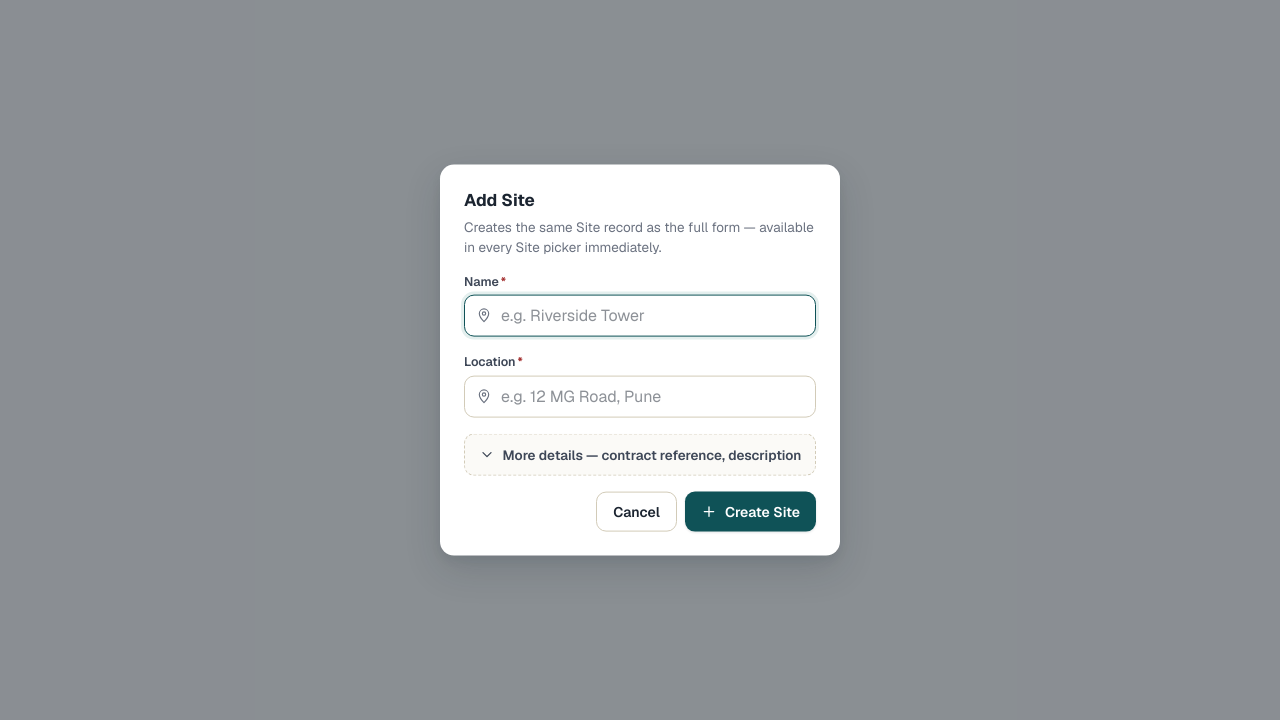
Test: SiteQuickCreateModal › keeps typed values and shows the inline error when the action returns a validation error
Type "Duplicate Site" into the field labelled "Name" at (640, 316), box [464,295,816,337]
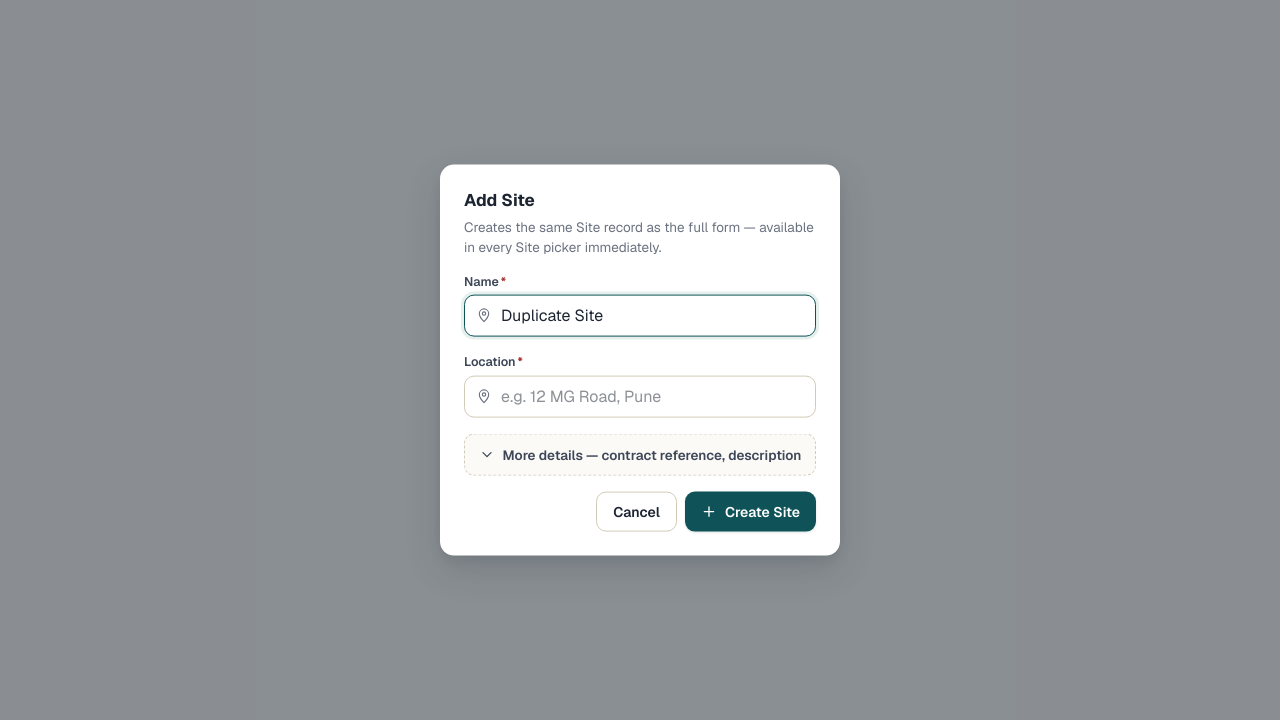
Type "Nashik" into the field labelled "Location" at (640, 396), box [464,375,816,417]
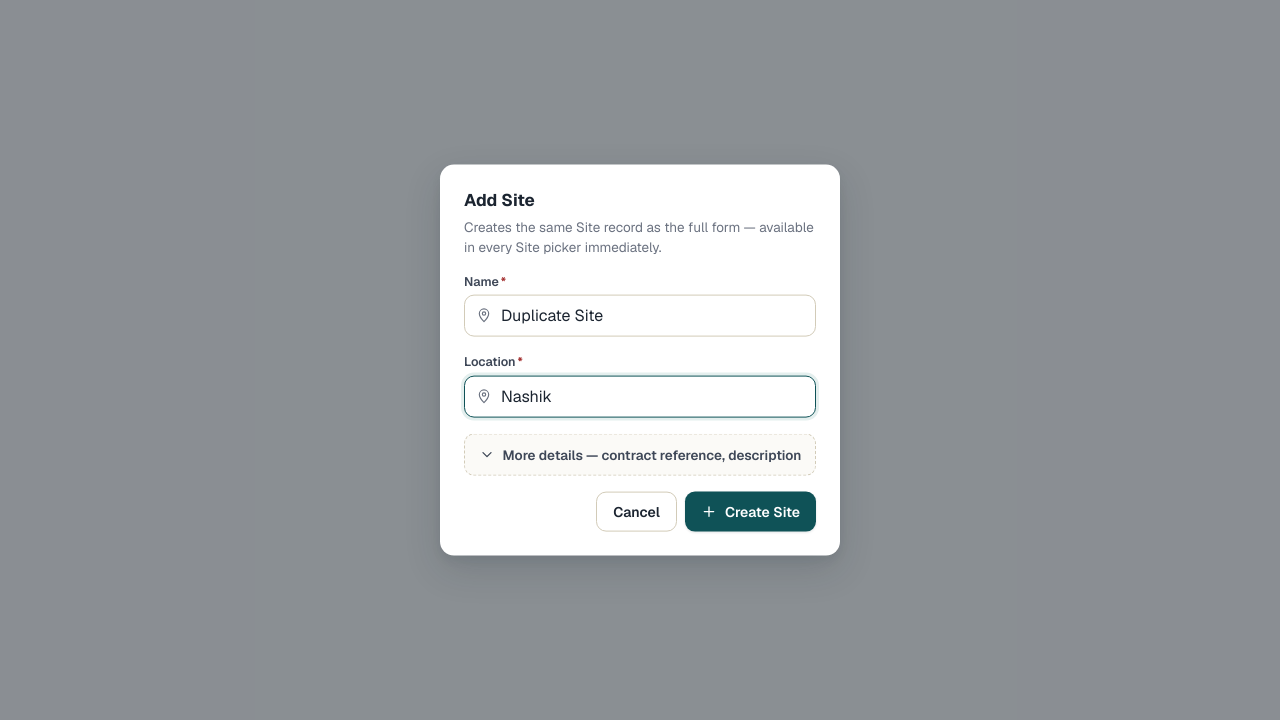
Click the button "Create Site" at (750, 511), box [685,491,816,531]
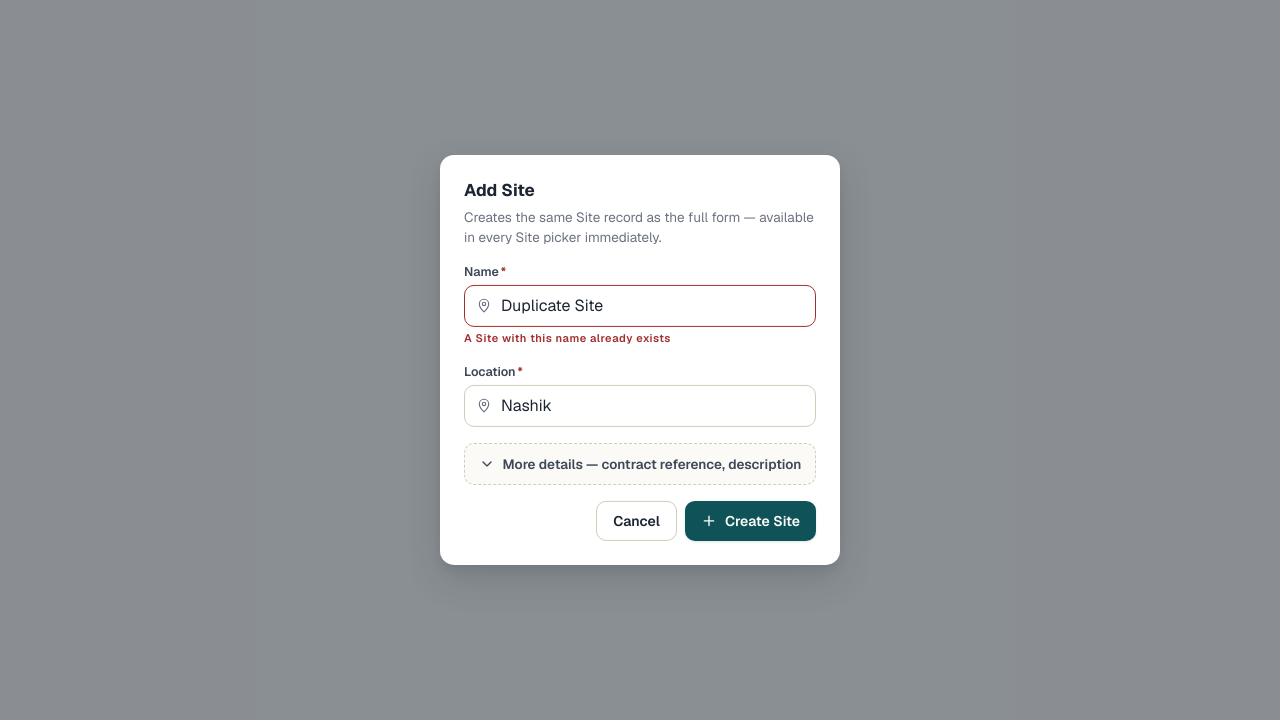
Expected: the text "A Site with this name already exists" is shown, [464,331,671,345]
